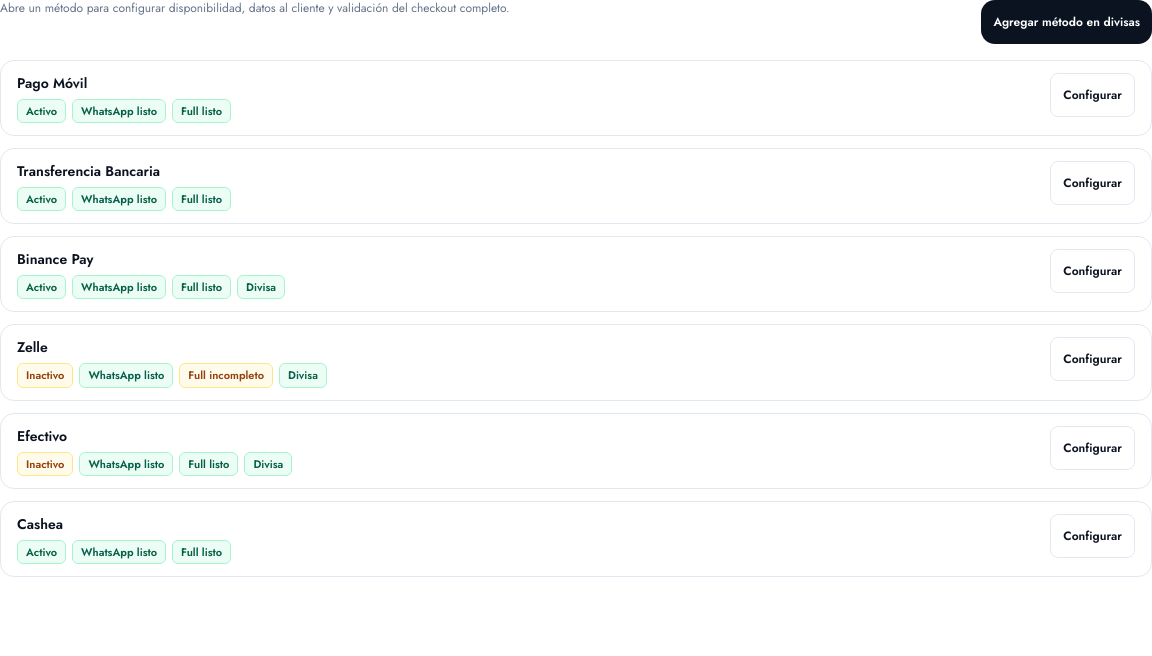
it: PaymentMethodsAdminSection UI › todos los métodos empiezan colapsados; abrir uno cierra el anterior
The image size is (1152, 656).
Click the button "Pago Móvil Activo WhatsApp listo Full listo" at (52, 83), box [17,73,1042,123]
(page scrolled)
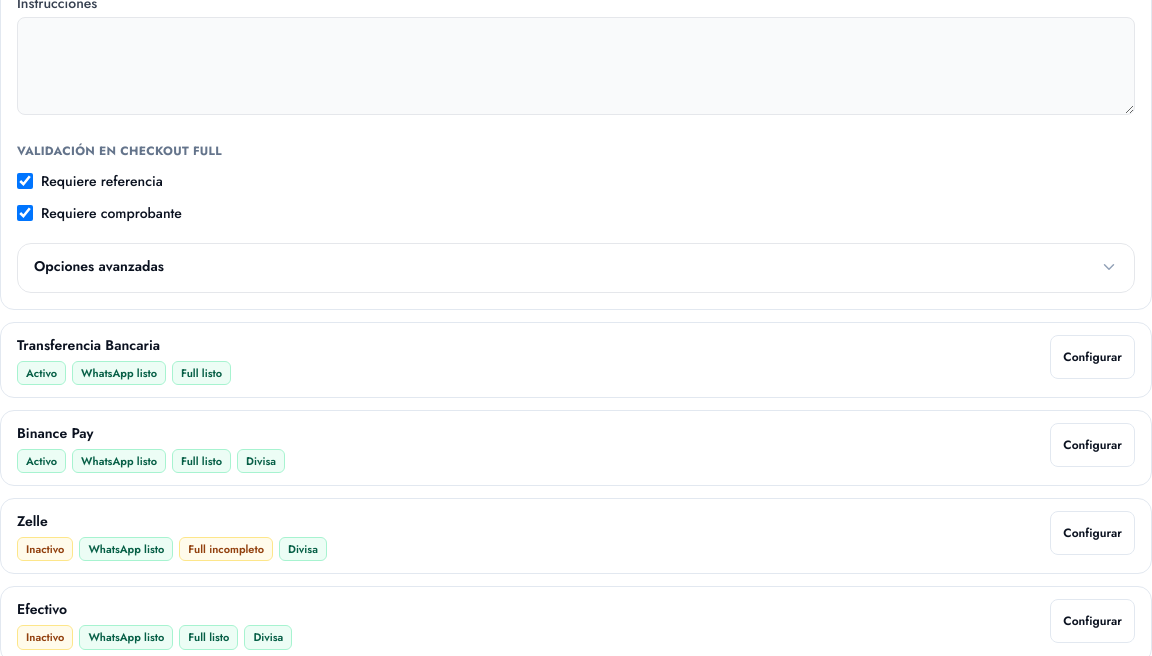
Click the button "Transferencia Bancaria Activo WhatsApp listo Full listo" at (88, 345), box [17,335,1042,385]
(page scrolled)
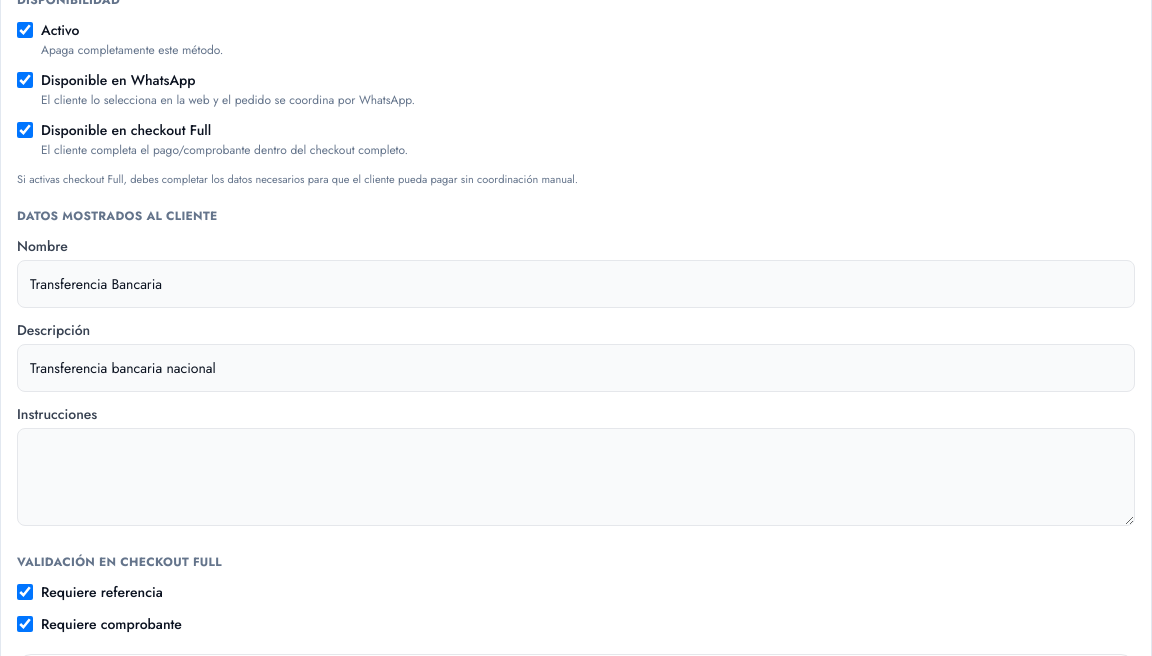
Expected: the field showing "Pago Móvil" is not shown
Expected: the field showing "Transferencia Bancaria" is shown, [17,260,1135,308]
